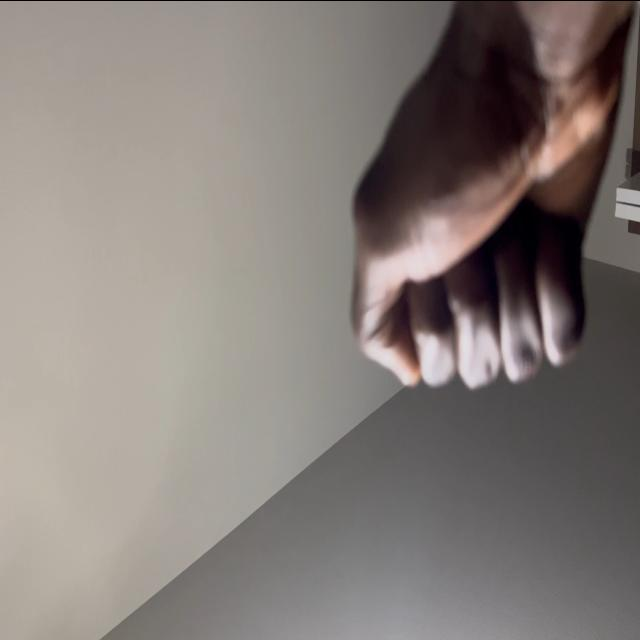Rock: (347, 0, 618, 390)
